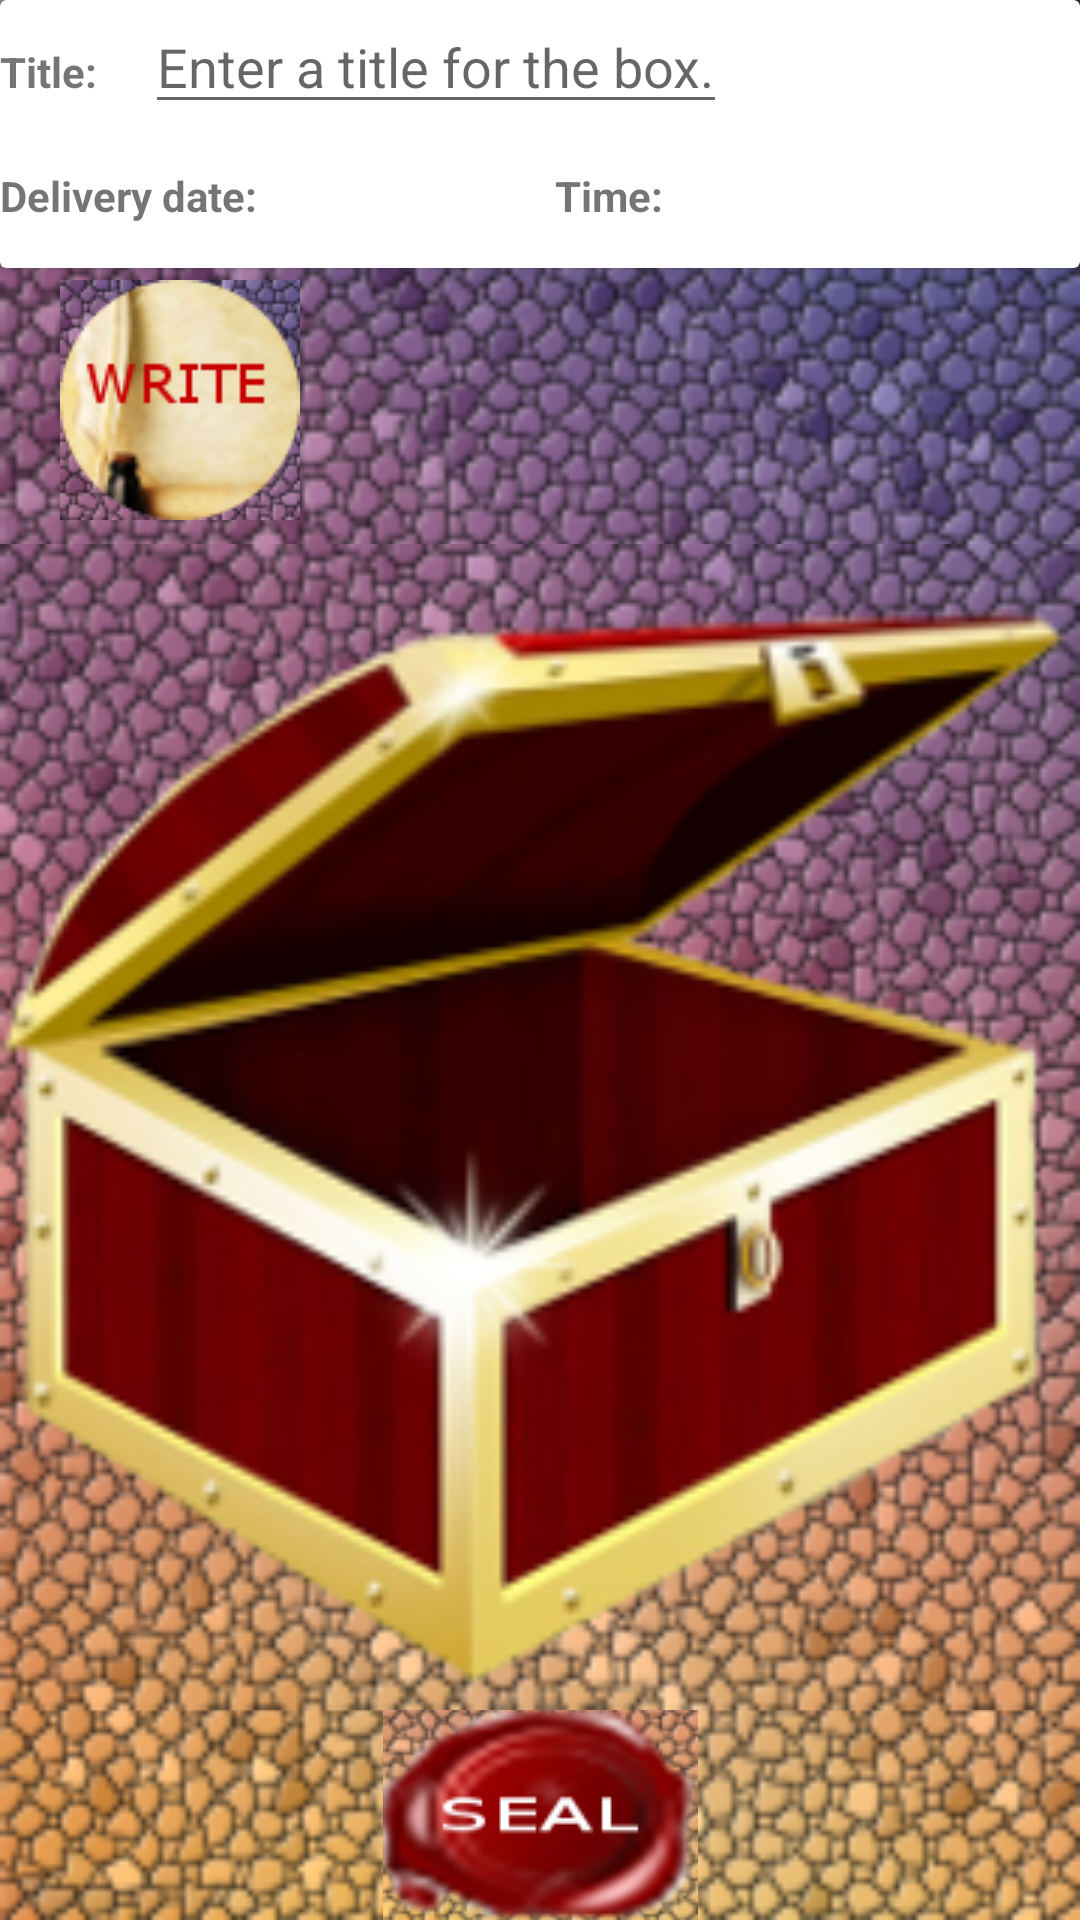

Icons on this 1080×1920 Android screen, each with the point to tap as (x,y):
old paper thumbnail: (180,400)
